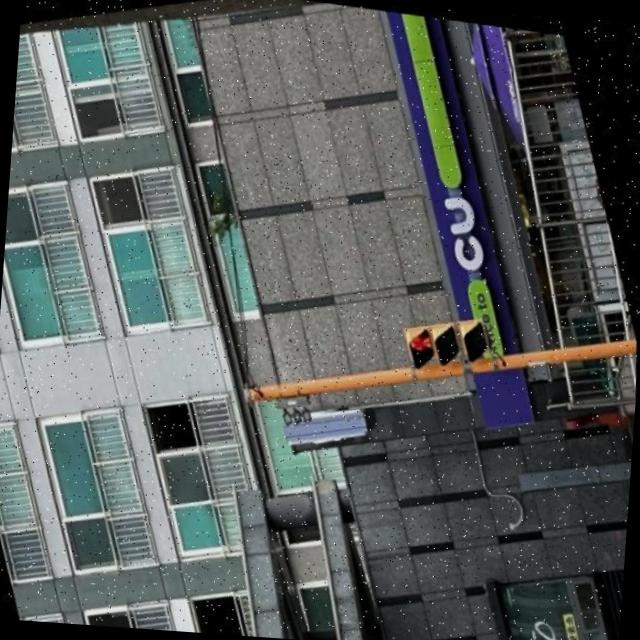red_light: (410, 321, 441, 353)
